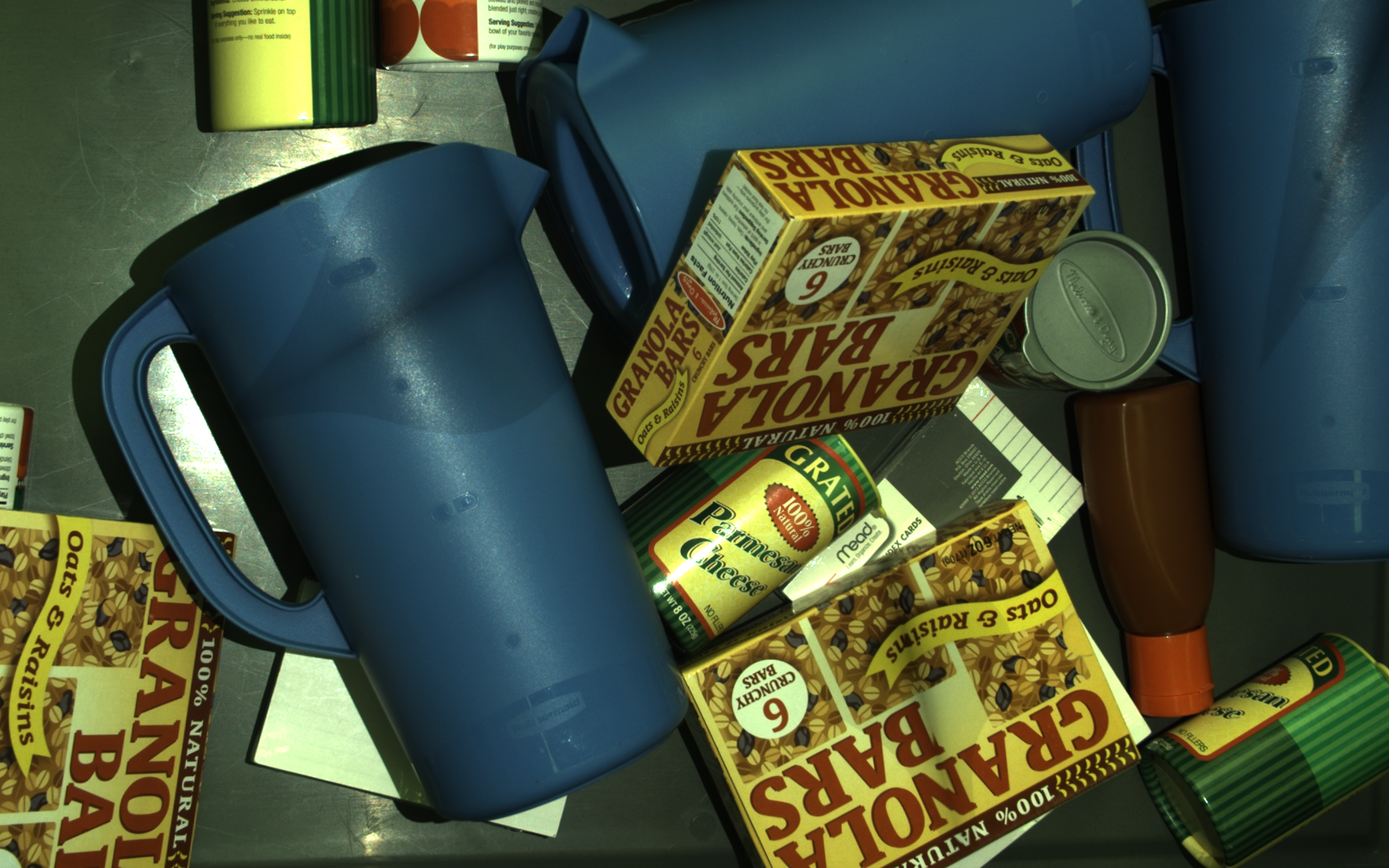defect: (232, 142, 566, 435), (806, 544, 1015, 861), (1260, 0, 1389, 368)
